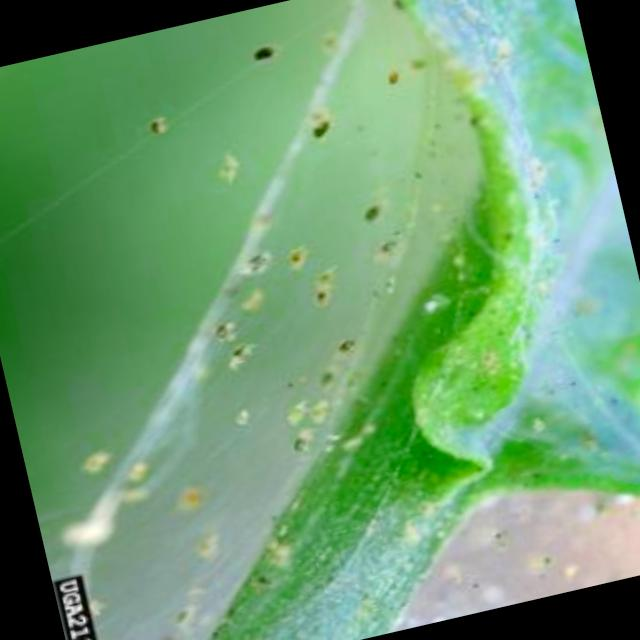spider mite: (228, 24, 316, 94), (284, 102, 348, 158), (186, 288, 247, 346), (274, 417, 332, 475), (359, 59, 418, 108), (286, 264, 346, 310), (336, 190, 392, 234), (374, 225, 416, 267), (276, 238, 320, 277), (142, 106, 185, 144), (230, 338, 274, 375), (233, 243, 273, 280), (329, 330, 374, 361), (304, 350, 342, 384)
